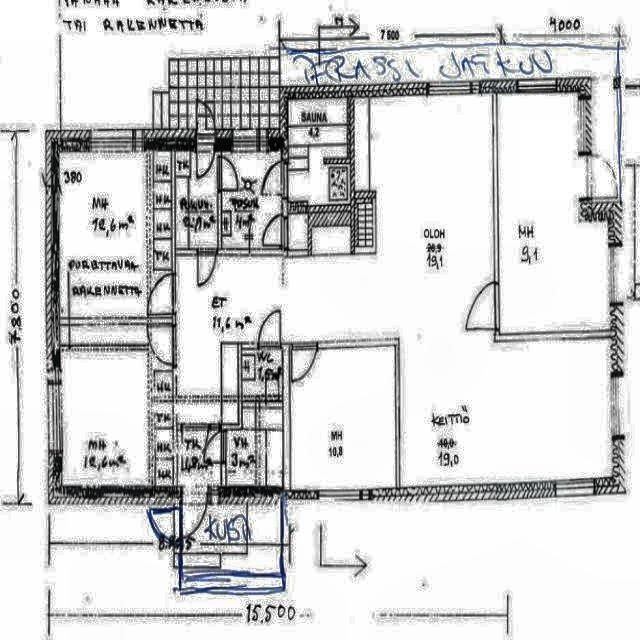room: (497, 92, 609, 332), (59, 152, 171, 317), (60, 326, 172, 486), (290, 347, 395, 490), (226, 350, 283, 486), (287, 98, 350, 205), (182, 506, 280, 573), (222, 151, 281, 248), (176, 152, 218, 248), (177, 430, 221, 486)
